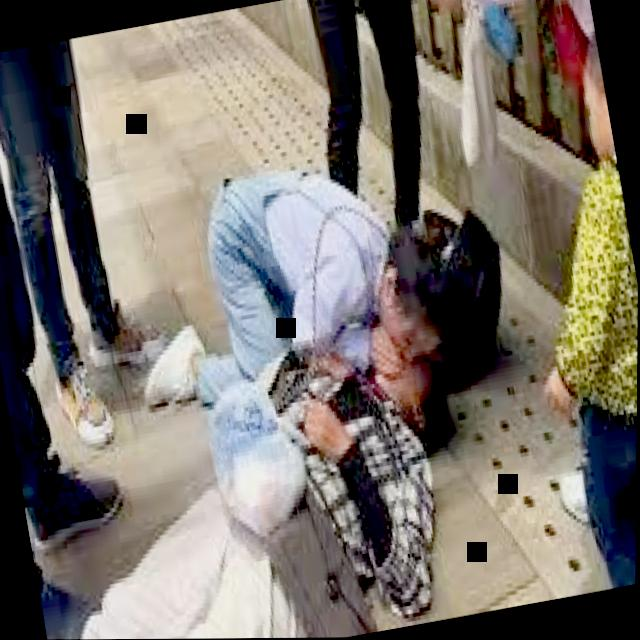Fall-Detected: (0, 275, 499, 640)
